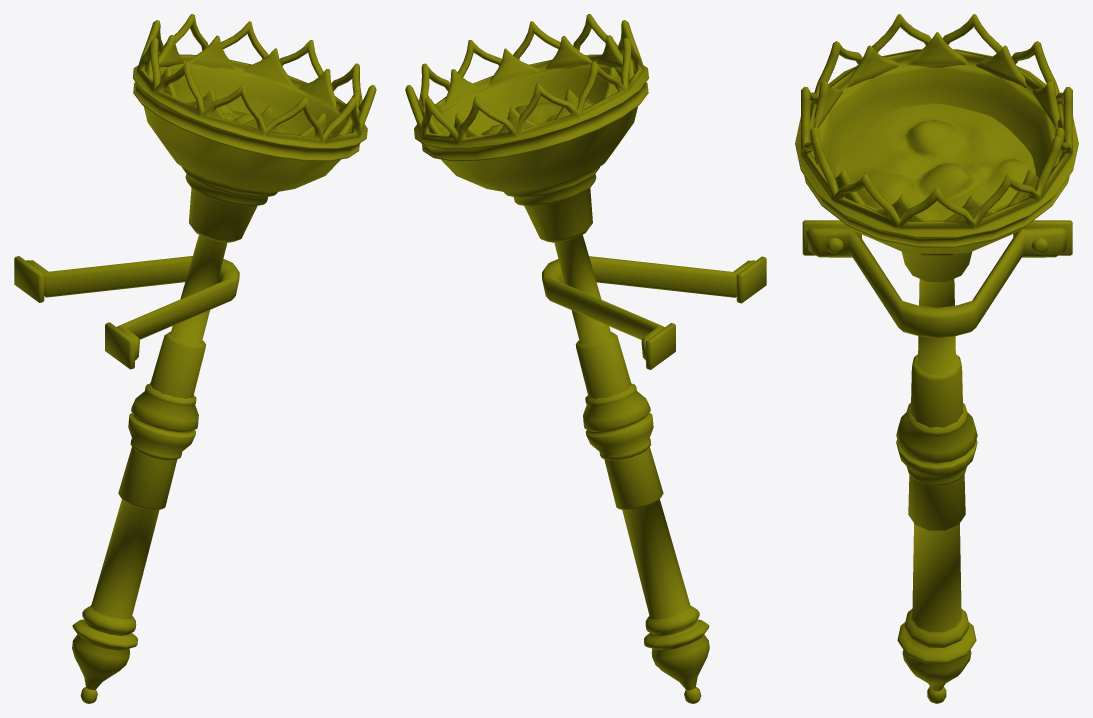
The model's file is W1_Brasero_Mural.fbx.
3 views of the same model, side by side, from view 1: azimuth 30°, elevation 25°; view 2: azimuth 150°, elevation 25°; view 3: azimuth 270°, elevation 25° (orthographic). The views are drawn at different scales.
Visible parts, largest first — view 1: W1_Brasero_Mural; view 2: W1_Brasero_Mural; view 3: W1_Brasero_Mural.
Boxes of the visible parts, x1,y1,x2,y2 form: W1_Brasero_Mural: (14, 14, 376, 703); W1_Brasero_Mural: (405, 14, 766, 703); W1_Brasero_Mural: (795, 14, 1078, 703).
Size of the model in its own units: 93.23 by 196 by 68.5.
